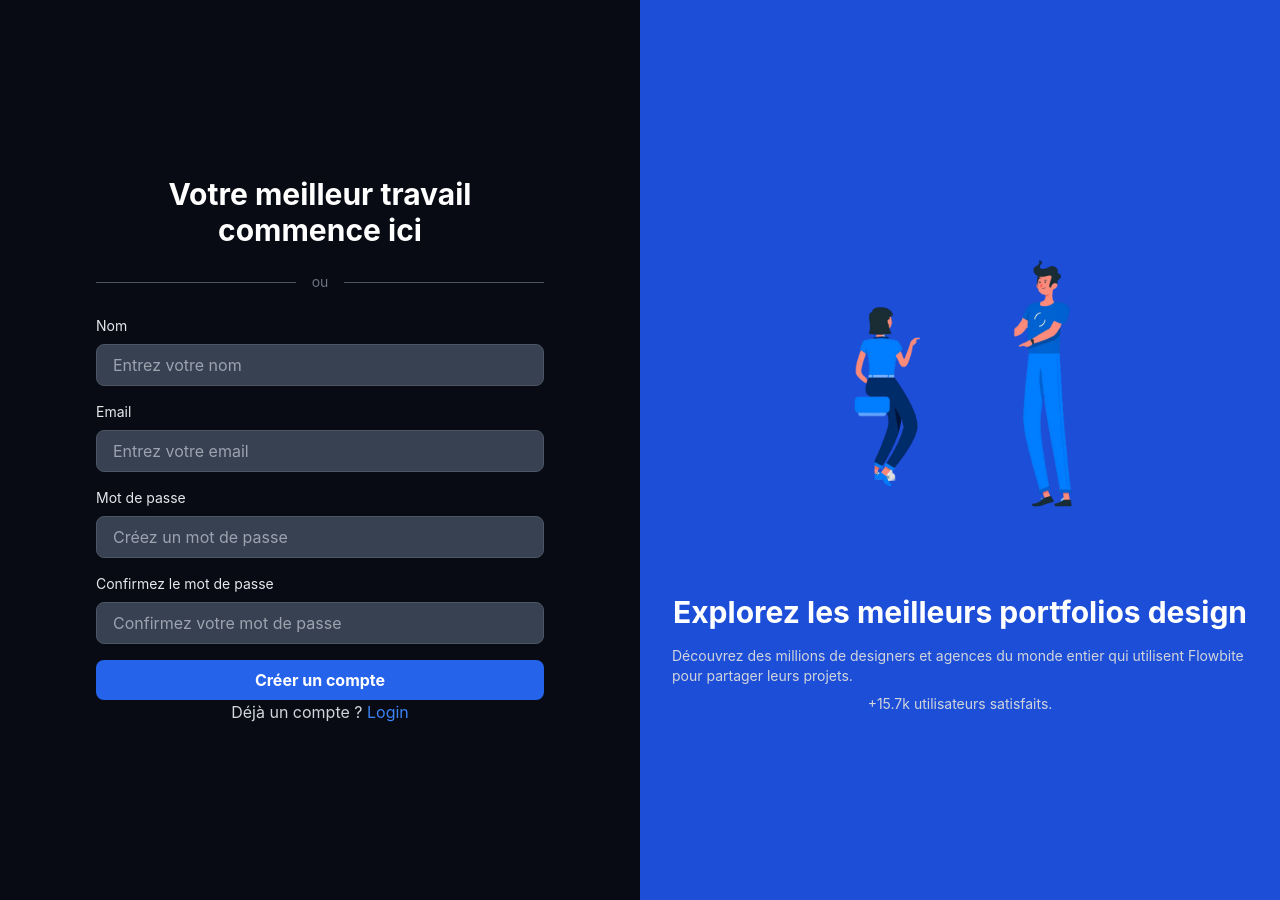
Scenario: Register Component › handles registration error
Note: Fill out the form
Type "Test User" into the field labelled "Nom" at (320, 365), box [96,344,544,386]
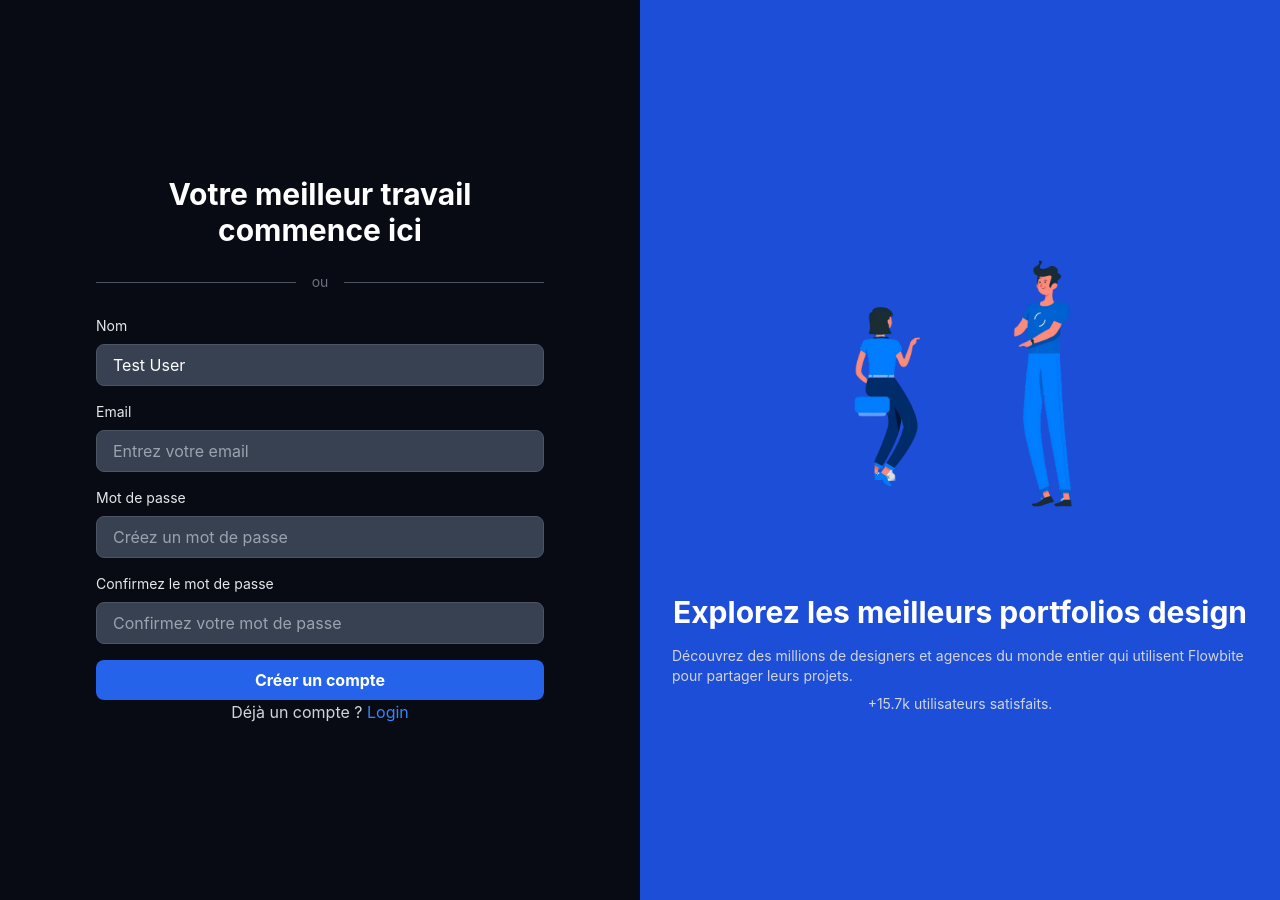
Type "test@example.com" into the field labelled "Email" at (320, 451), box [96,430,544,472]
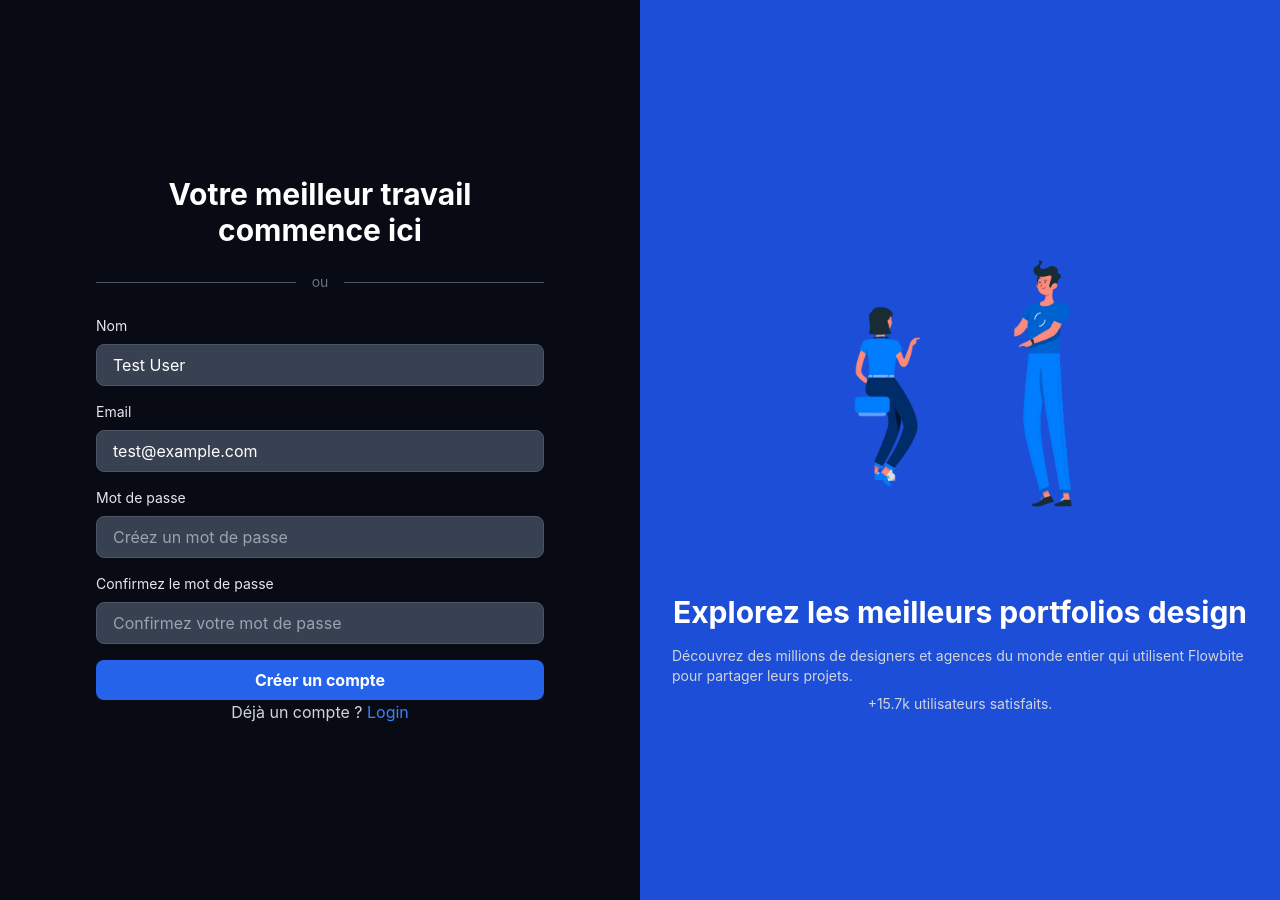
Type "12345678" into the password field labelled "Mot de passe" at (320, 537), box [96,516,544,558]
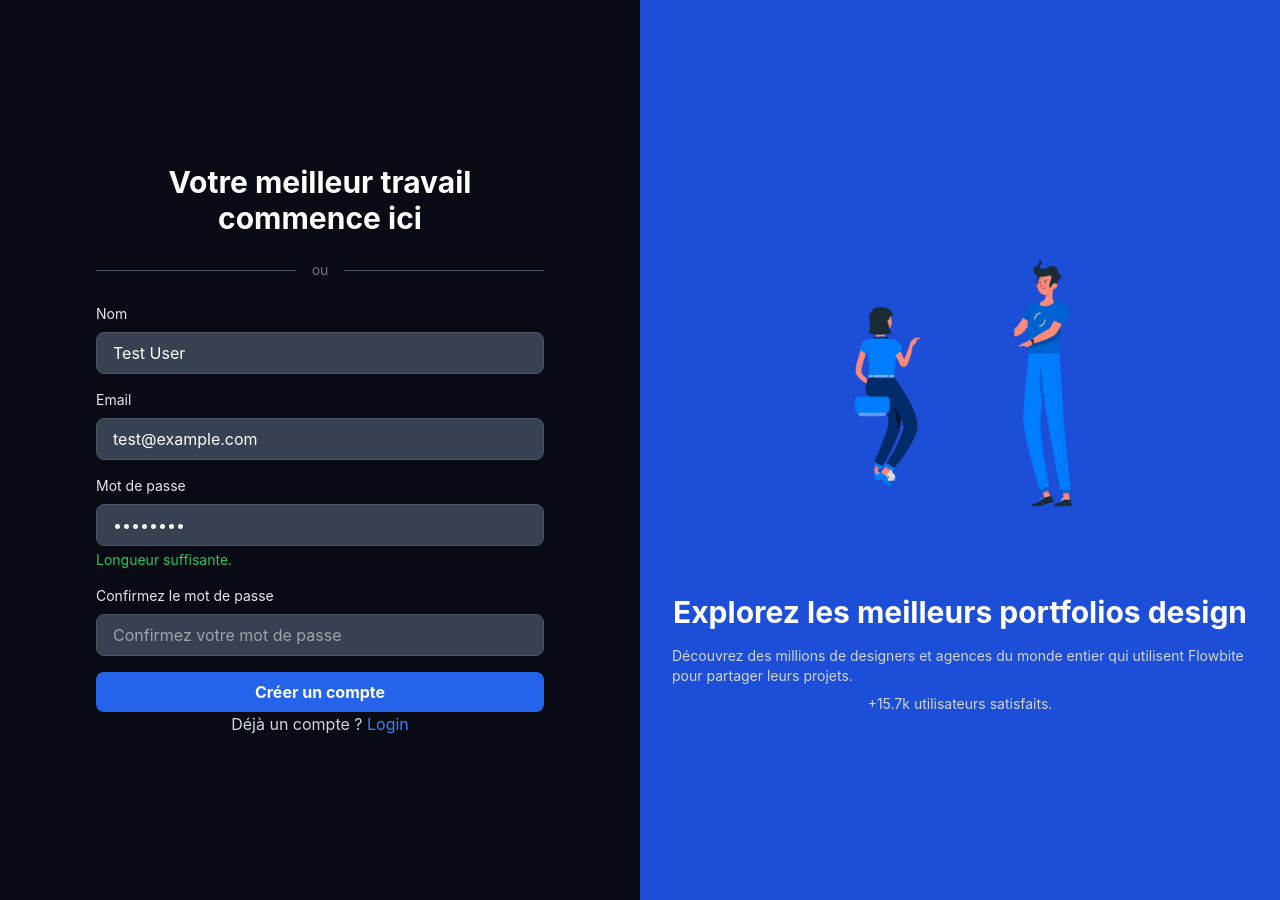
Type "12345678" into the password field labelled "Confirmez le mot de passe" at (320, 635), box [96,614,544,656]
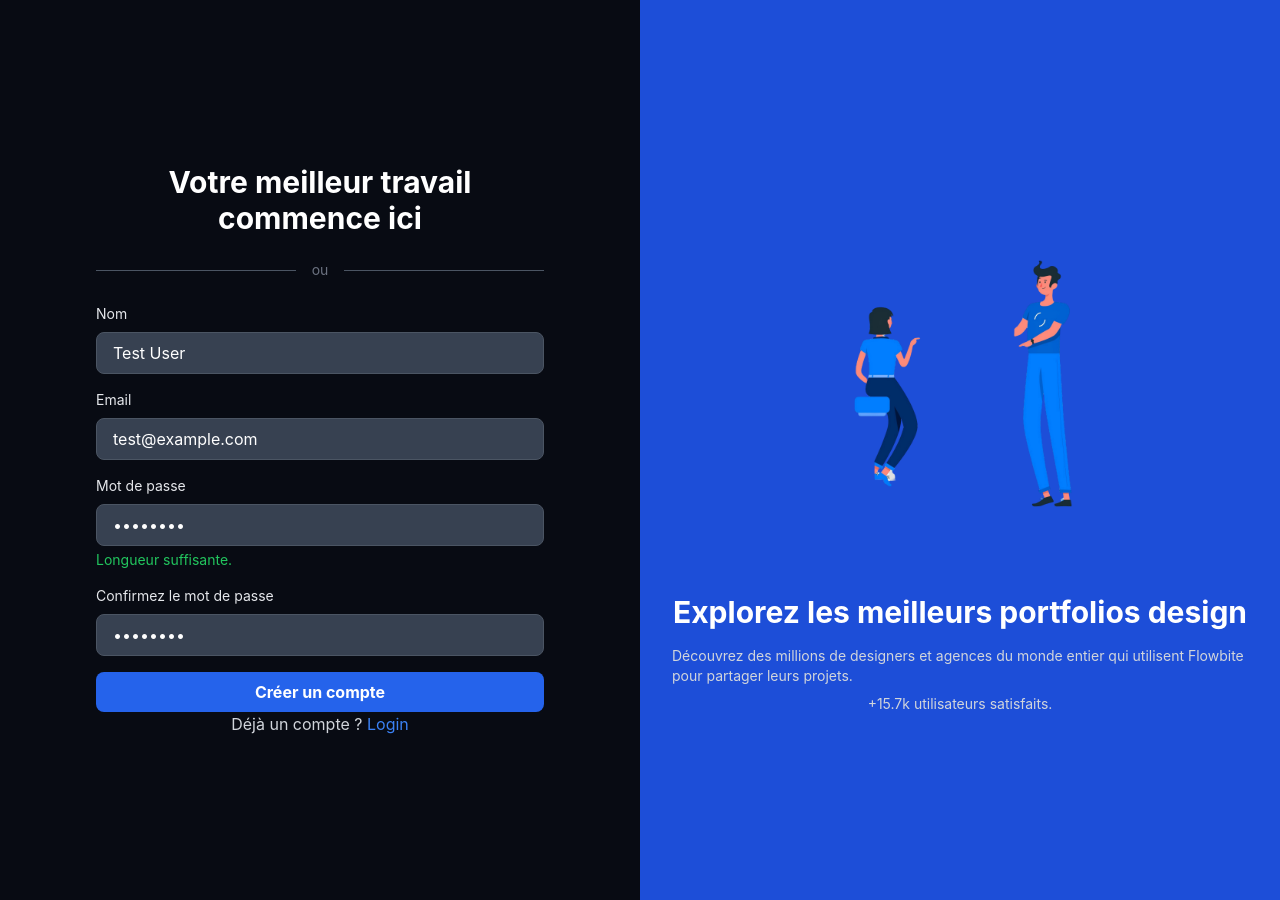
Note: Submit the form
Click the button "Créer un compte" at (320, 692), box [96,672,544,712]
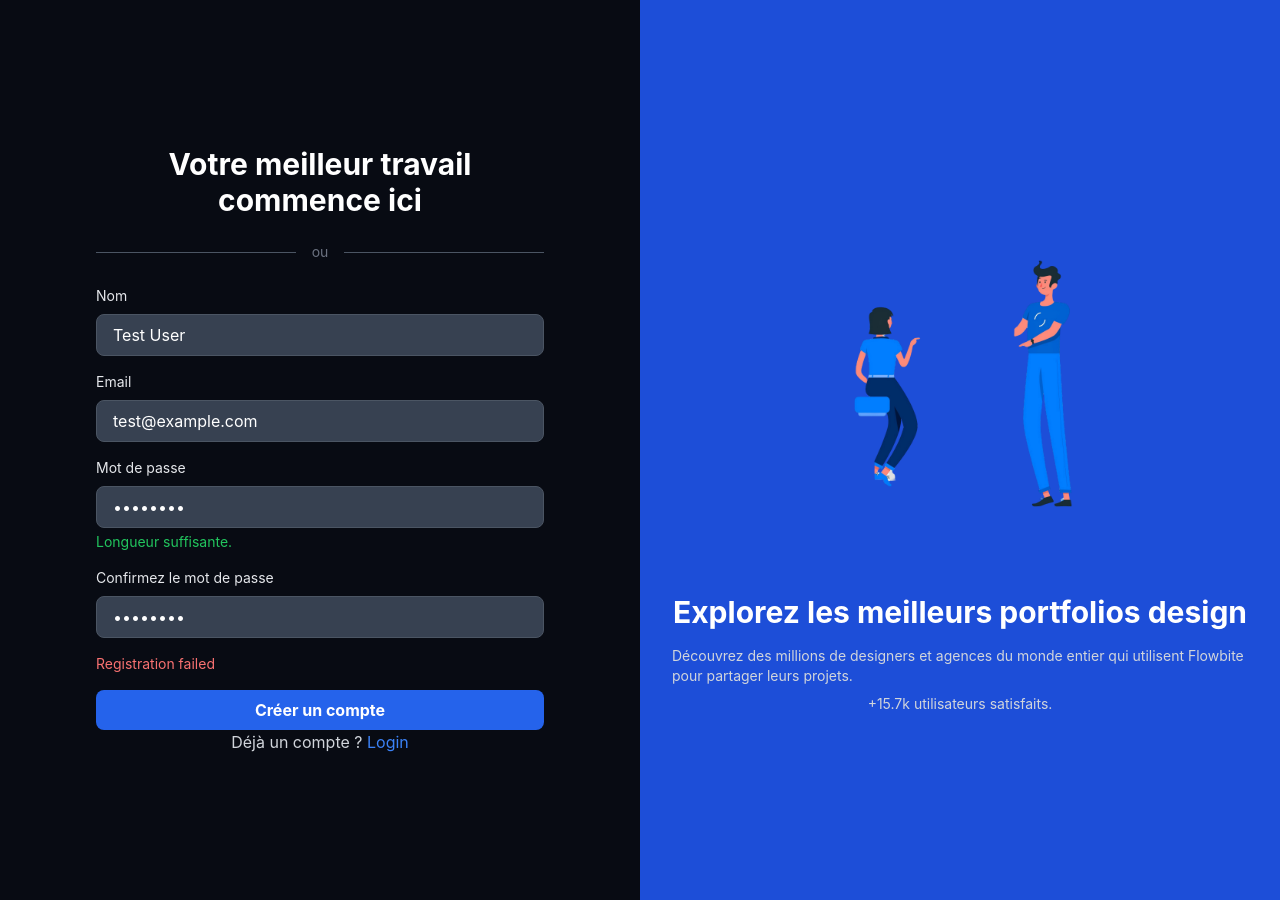
Now the text "Registration failed" is shown, box [96,655,215,672]
